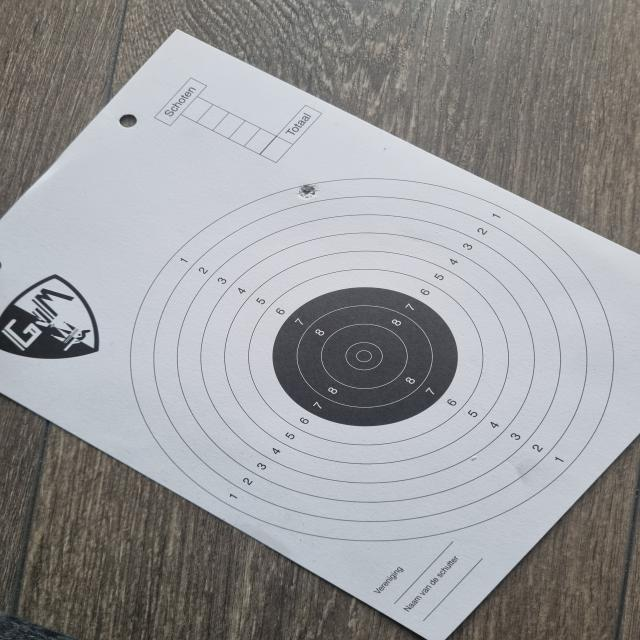1: (298, 185, 320, 198)
Target: (128, 177, 616, 540)
black_contour: (274, 286, 459, 426)
